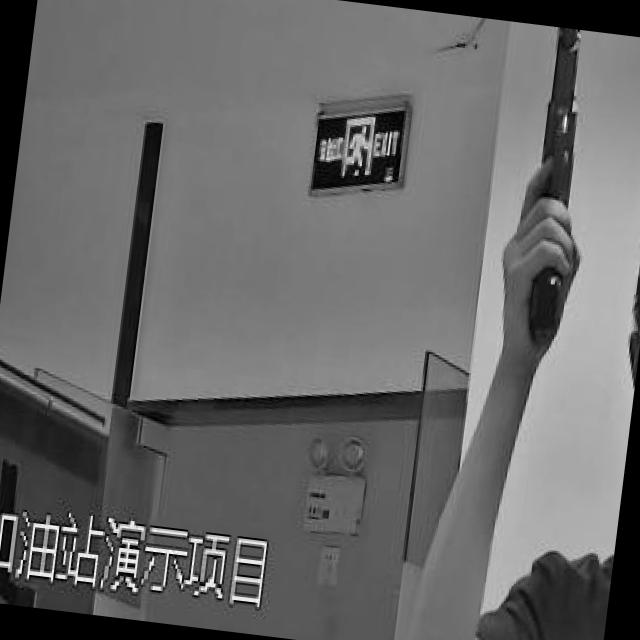Guns: (475, 22, 640, 389)
